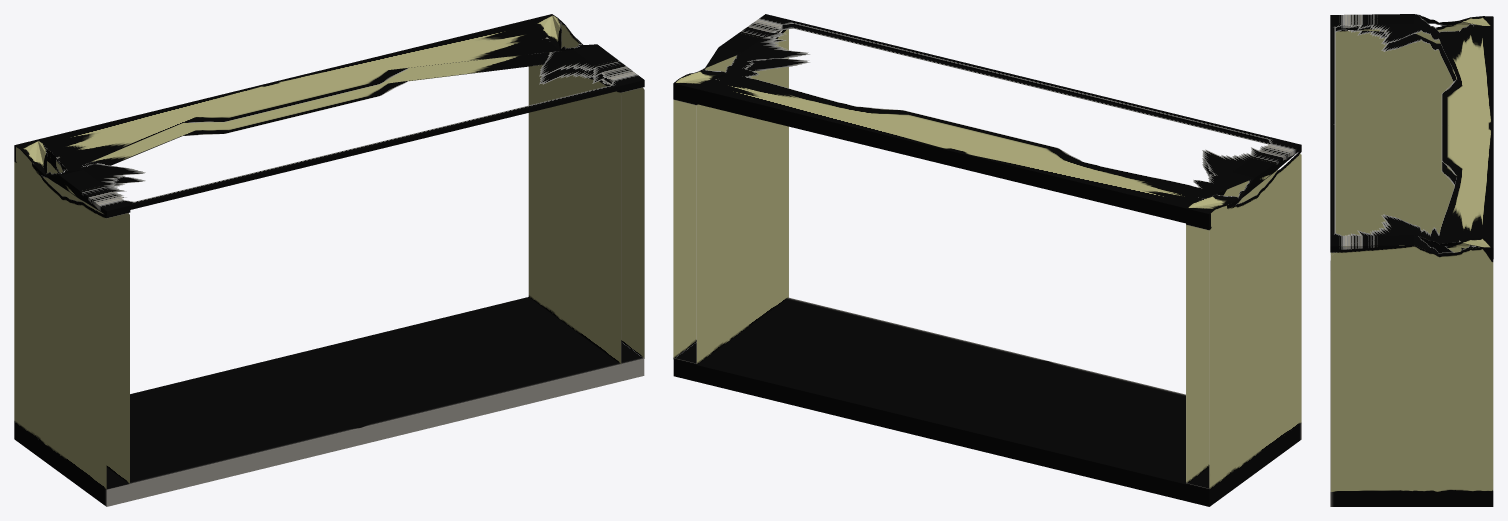
Rendered from hallwayPiece.fbx.
The picture shows the model from 3 angles, left to right: view 1: azimuth 30°, elevation 25°; view 2: azimuth 150°, elevation 25°; view 3: azimuth 270°, elevation 25°; orthographic projection. The views are drawn at different scales.
Visible parts, largest first — view 1: polySurface55, polySurface56, polySurface59, polySurface54; view 2: polySurface55, polySurface56, polySurface59, polySurface54; view 3: polySurface59, polySurface56, polySurface54, polySurface55.
Boxes of the visible parts, box(x1,y1,x2,y2) form: polySurface55: box(14, 297, 644, 506); polySurface56: box(14, 139, 130, 489); polySurface59: box(528, 14, 644, 364); polySurface54: box(38, 19, 621, 209); polySurface55: box(673, 297, 1301, 506); polySurface56: box(1186, 139, 1301, 489); polySurface59: box(673, 14, 788, 364); polySurface54: box(696, 19, 1277, 223); polySurface59: box(1330, 235, 1493, 492); polySurface56: box(1330, 14, 1493, 270); polySurface54: box(1330, 24, 1493, 254); polySurface55: box(1330, 271, 1493, 506).
Bounding box in the file's own units: 5.17 × 2.73 × 1.54.
